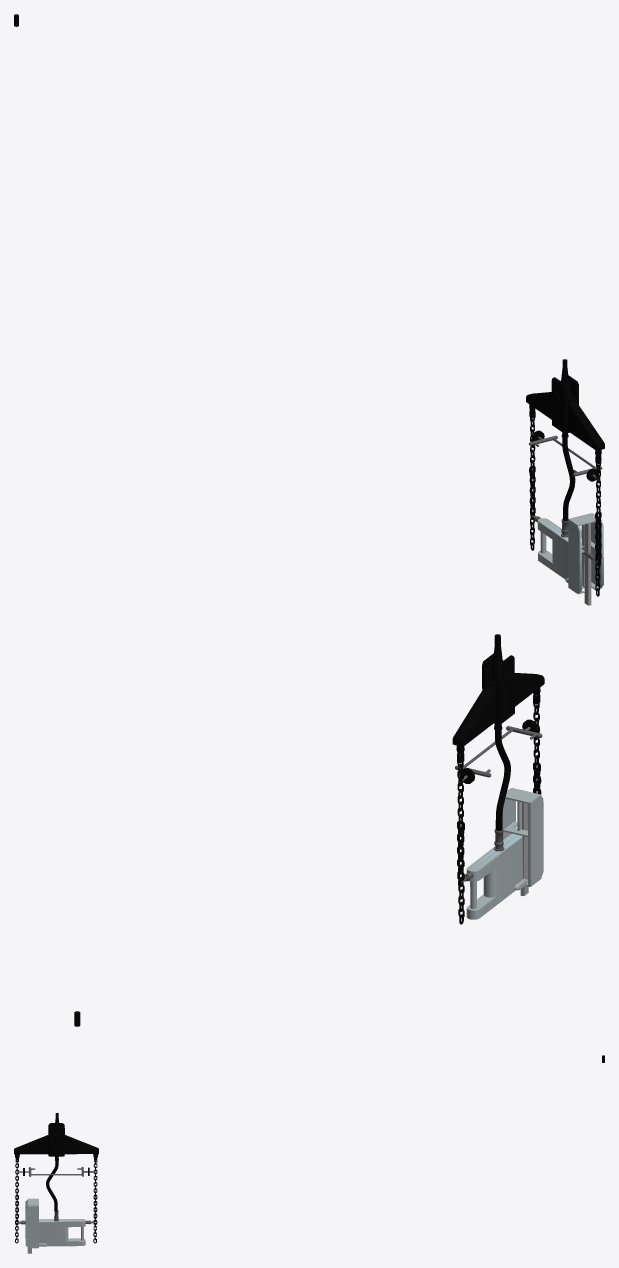
3 views of the same model, one above another, from view 1: azimuth 30°, elevation 25°; view 2: azimuth 150°, elevation 25°; view 3: azimuth 270°, elevation 25° (orthographic). The views are drawn at different scales.
Parts seen in each view (by area): view 1: 网格029, 网格011, 网格033_1; view 2: 网格029, 网格011, 网格029_2, 网格033_1, liantou001, 网格029_1; view 3: 网格029, liantou001, 网格011.
Part boxes in pixels (x1,y1,x2,y2): 网格029: (526, 359, 604, 513); 网格011: (537, 513, 602, 593); 网格033_1: (529, 465, 600, 596); 网格029: (452, 634, 544, 823); 网格011: (467, 788, 543, 919); 网格029_2: (495, 730, 510, 830); 网格033_1: (458, 762, 541, 924); liantou001: (466, 788, 529, 919); 网格029_1: (455, 721, 542, 781); 网格029: (14, 1113, 98, 1193); liantou001: (25, 1200, 85, 1248); 网格011: (25, 1198, 85, 1244).
Size of what is drawn, in the model's own units: 1.81 by 3.92 by 12.61.
